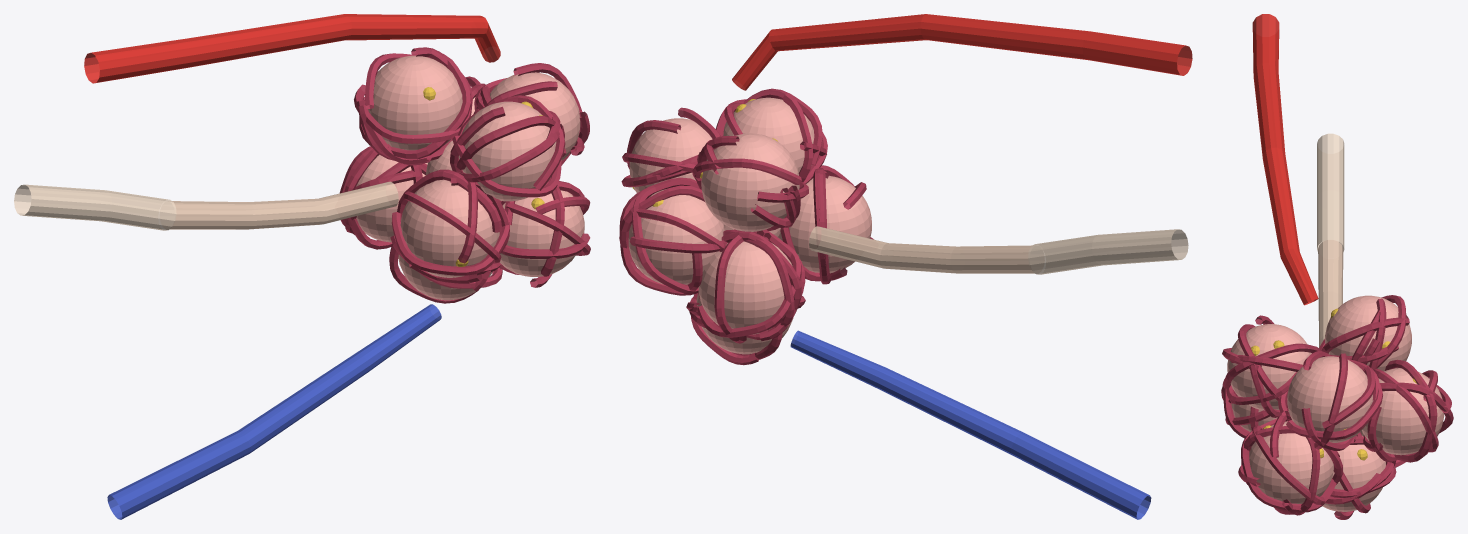
The model's file is alveoli.glb.
3 renders of one model, left to right at view 1: azimuth 30°, elevation 25°; view 2: azimuth 150°, elevation 25°; view 3: azimuth 270°, elevation 25°, orthographic. The views are drawn at different scales.
Visible parts, largest first — view 1: alveoli, pulmonary_capillaries, pulmonary_venule, pulmonary_arteriole, alveolar_duct, respiratory_bronchiole; view 2: alveoli, pulmonary_capillaries, pulmonary_venule, pulmonary_arteriole, alveolar_duct, respiratory_bronchiole; view 3: pulmonary_capillaries, alveoli, pulmonary_venule, respiratory_bronchiole, alveolar_duct, type_ii_pneumocytes.
Part boxes in pixels (left/top/right/bottom): alveoli: left=356, top=55, right=584, bottom=300; pulmonary_capillaries: left=339, top=47, right=590, bottom=303; pulmonary_venule: left=84, top=14, right=500, bottom=83; pulmonary_arteriole: left=107, top=304, right=441, bottom=519; alveolar_duct: left=169, top=181, right=398, bottom=229; respiratory_bronchiole: left=14, top=184, right=176, bottom=230; alveoli: left=628, top=97, right=871, bottom=354; pulmonary_capillaries: left=619, top=88, right=873, bottom=365; pulmonary_venule: left=732, top=14, right=1192, bottom=90; pulmonary_arteriole: left=790, top=330, right=1151, bottom=519; alveolar_duct: left=809, top=226, right=1034, bottom=273; respiratory_bronchiole: left=1028, top=229, right=1188, bottom=274; pulmonary_capillaries: left=1221, top=295, right=1453, bottom=519; alveoli: left=1227, top=295, right=1444, bottom=511; pulmonary_venule: left=1252, top=14, right=1318, bottom=305; respiratory_bronchiole: left=1317, top=133, right=1344, bottom=251; alveolar_duct: left=1318, top=240, right=1343, bottom=347; type_ii_pneumocytes: left=1251, top=308, right=1416, bottom=460.
Size of the model in its own units: 0.3507 by 0.2855 by 0.1438.
